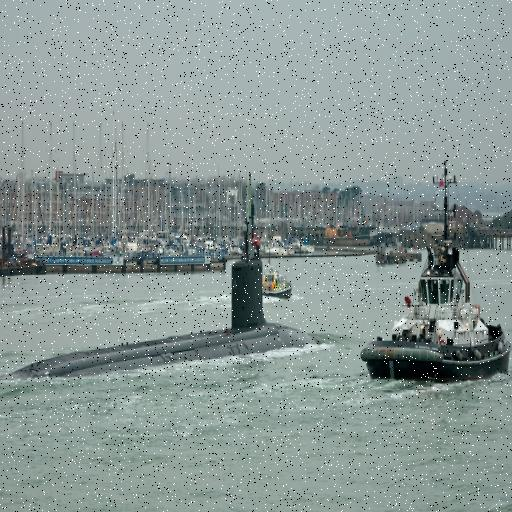submarine: (1, 167, 335, 386)
